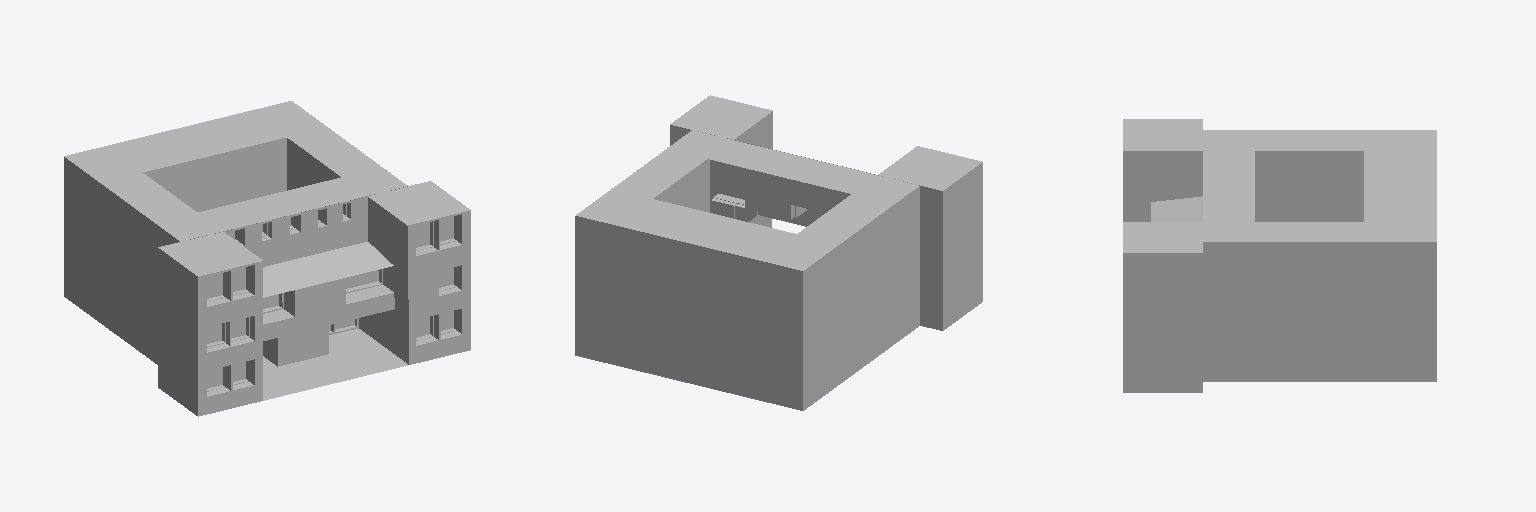
The model's file is Library.obj.
3 views of the same model, side by side, from view 1: azimuth 30°, elevation 25°; view 2: azimuth 150°, elevation 25°; view 3: azimuth 270°, elevation 25° (orthographic).
Visible parts, largest first — view 1: Cube; view 2: Cube; view 3: Cube.
Part boxes in pixels (x1,y1,x2,y2): Cube: (64, 101, 470, 416); Cube: (575, 95, 982, 410); Cube: (1123, 119, 1436, 392).
Size of the model in its own units: 1986 by 973 by 1979.